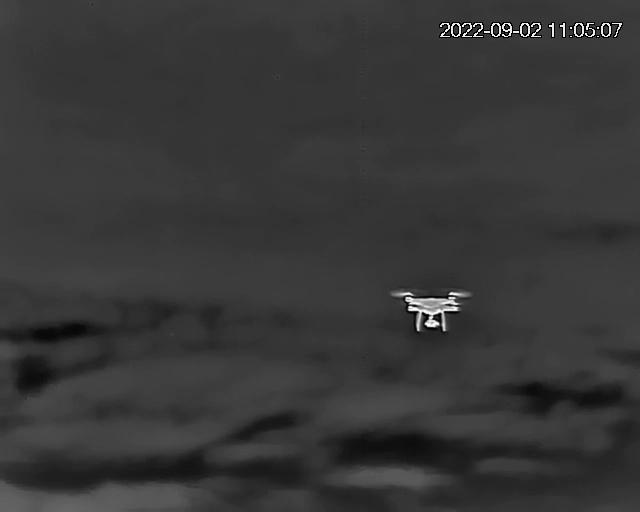DJI-Phantom: (392, 289, 473, 332)
